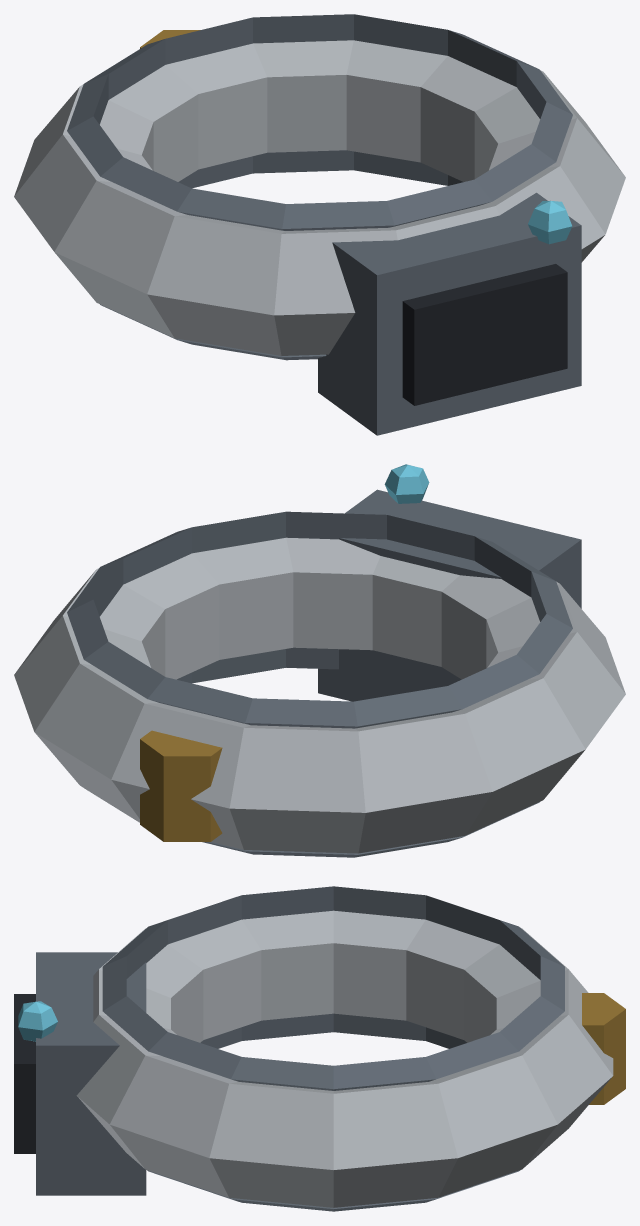
File: throat-prosthesis.glb
The picture shows the model from 3 angles, top to bottom: view 1: azimuth 30°, elevation 25°; view 2: azimuth 150°, elevation 25°; view 3: azimuth 270°, elevation 25°; orthographic projection. The views are drawn at different scales.
Visible parts, largest first — view 1: m; view 2: m; view 3: m.
Part boxes in pixels (left/top/right/bottom): m: left=14, top=14, right=625, bottom=435; m: left=14, top=464, right=625, bottom=857; m: left=14, top=886, right=625, bottom=1211.
Bounding box in the file's own units: 0.1 × 0.0346 × 0.1067.
